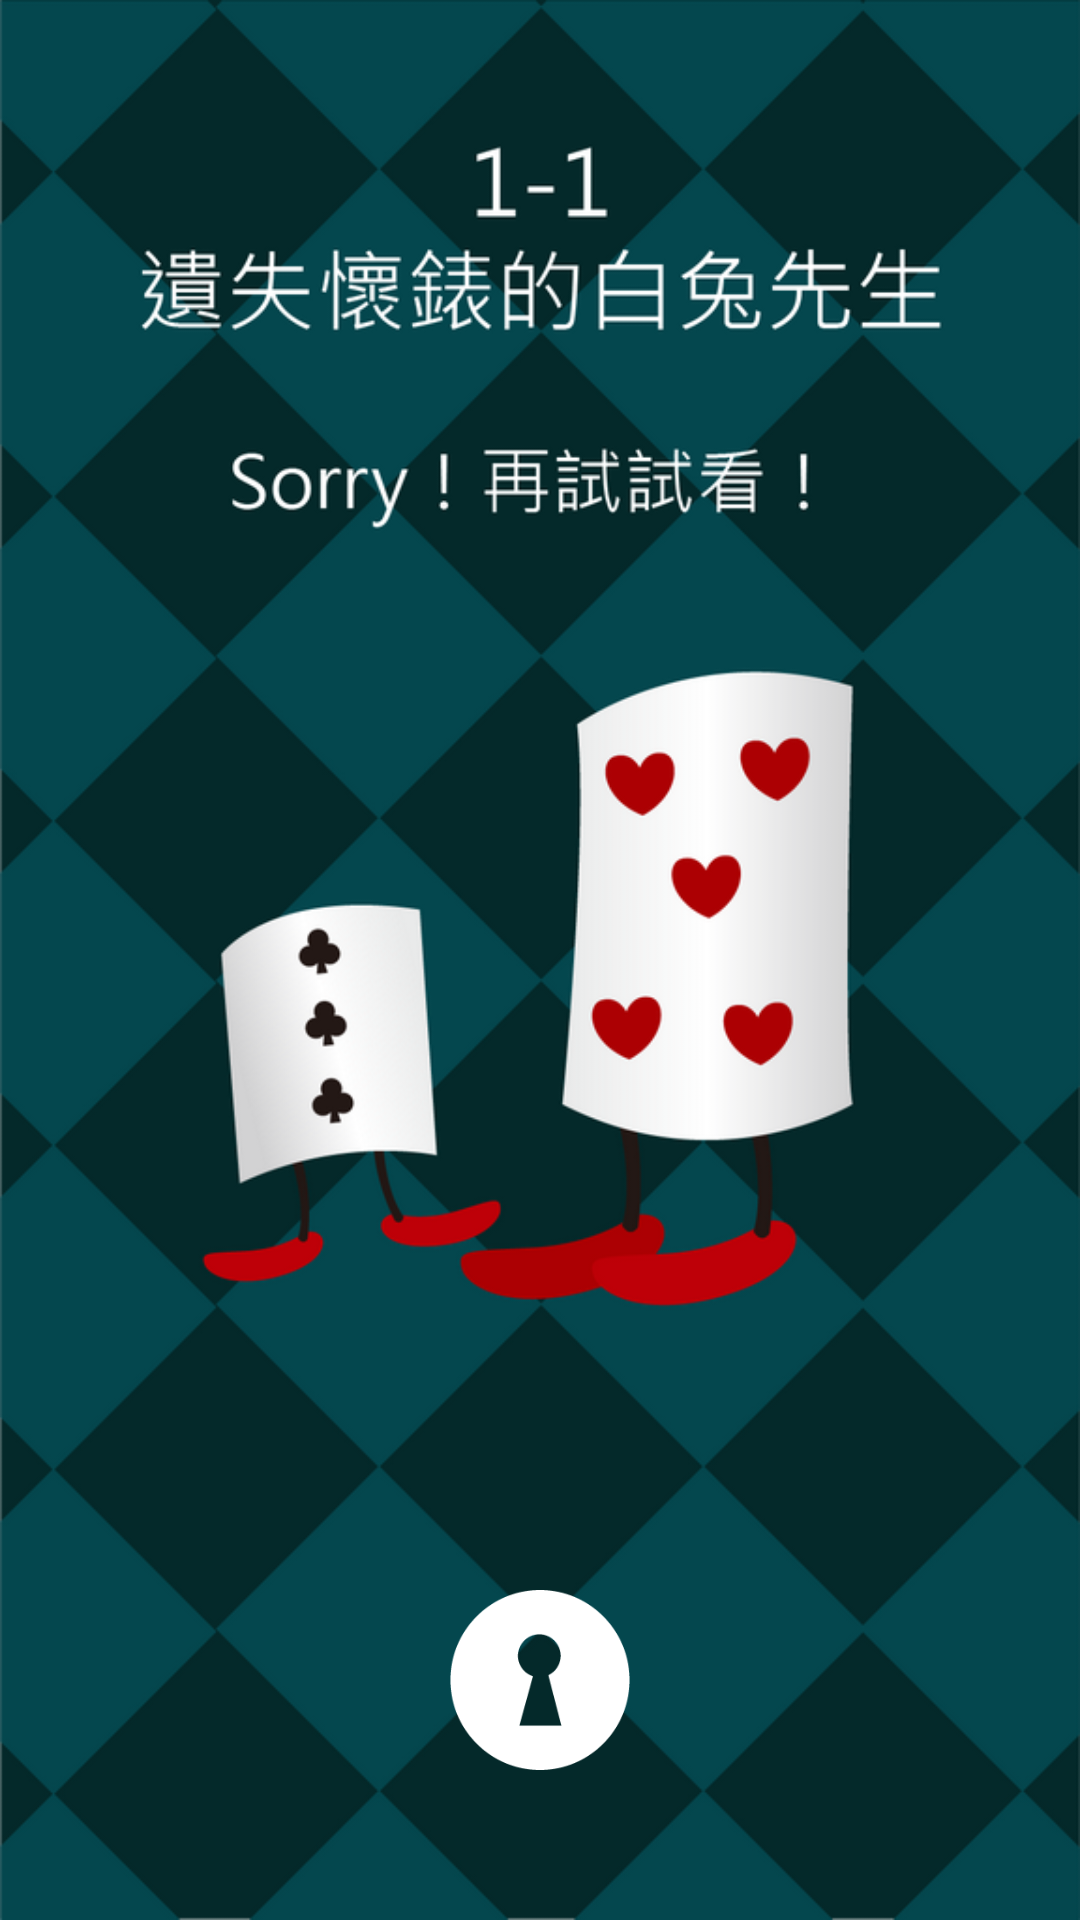

Icons on this 1080 x 1920 Android screen, each with the point to tap as point (x, y):
lock: point (540, 1680)
